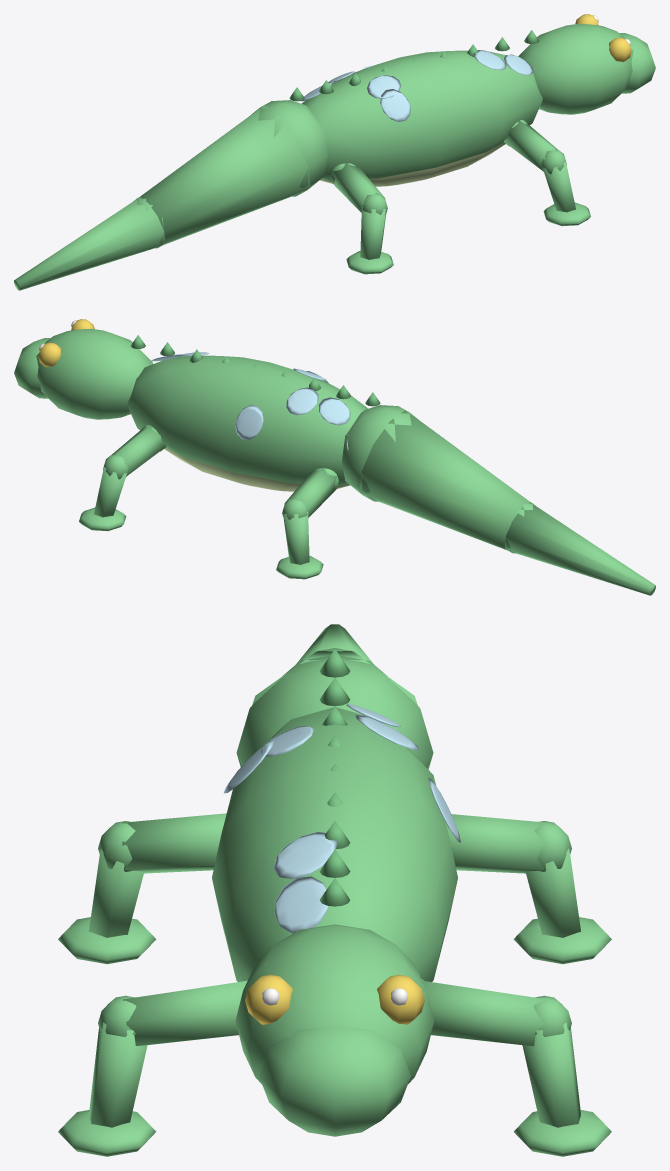
The model's file is green-basilisk.glb.
3 views of the same model, one above another, from view 1: azimuth 30°, elevation 25°; view 2: azimuth 150°, elevation 25°; view 3: azimuth 270°, elevation 25° (orthographic). The views are drawn at different scales.
Visible parts, largest first — view 1: cone, e.016, e.010, e.029, e.019; view 2: cone, e.016, e.010, e.034, e.024; view 3: cone, e.010, e.019, e.024, e.029, e.034, e.016.
Boxes of the visible parts, x1=… form: cone: x1=289, y1=30, x2=542, y2=186; e.016: x1=14, y1=100, x2=327, y2=290; e.010: x1=518, y1=14, x2=655, y2=114; e.029: x1=331, y1=163, x2=393, y2=274; e.019: x1=503, y1=120, x2=590, y2=226; cone: x1=127, y1=335, x2=380, y2=491; e.016: x1=342, y1=405, x2=655, y2=595; e.010: x1=14, y1=319, x2=152, y2=419; e.034: x1=276, y1=468, x2=338, y2=579; e.024: x1=79, y1=425, x2=166, y2=531; cone: x1=212, y1=649, x2=460, y2=981; e.010: x1=235, y1=924, x2=434, y2=1136; e.019: x1=58, y1=979, x2=248, y2=1156; e.024: x1=421, y1=979, x2=611, y2=1156; e.029: x1=58, y1=813, x2=226, y2=964; e.034: x1=445, y1=814, x2=611, y2=964; e.016: x1=236, y1=624, x2=433, y2=769.
Size of the model in its own units: 0.9533 by 0.211 by 0.36.
